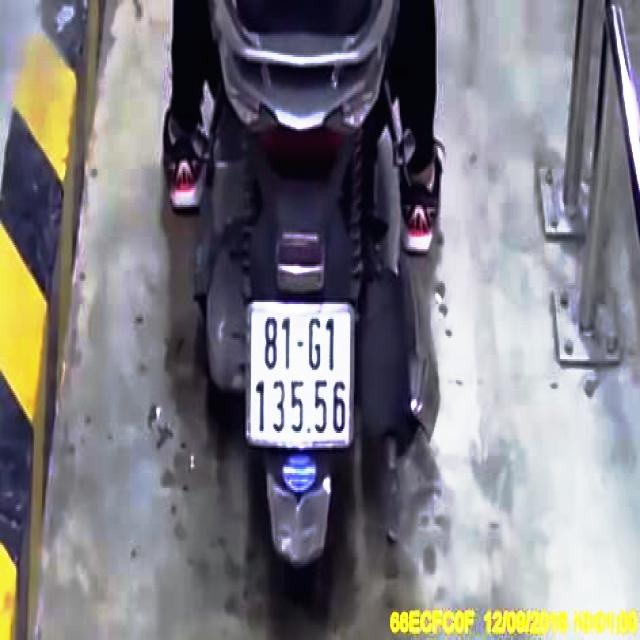license_plate: (247, 302, 354, 447)
